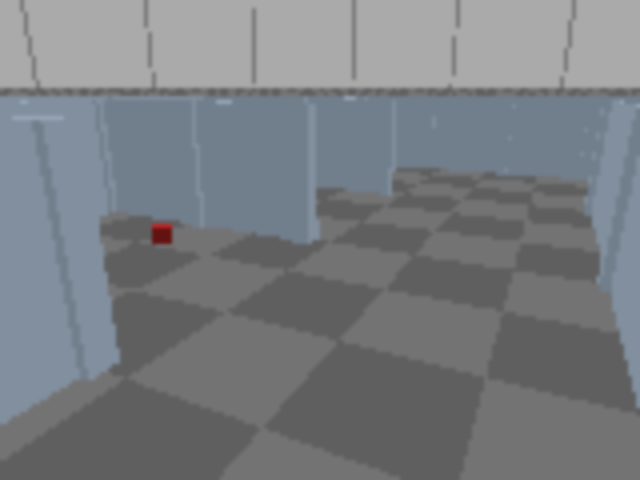puck: (154, 224, 169, 245)
